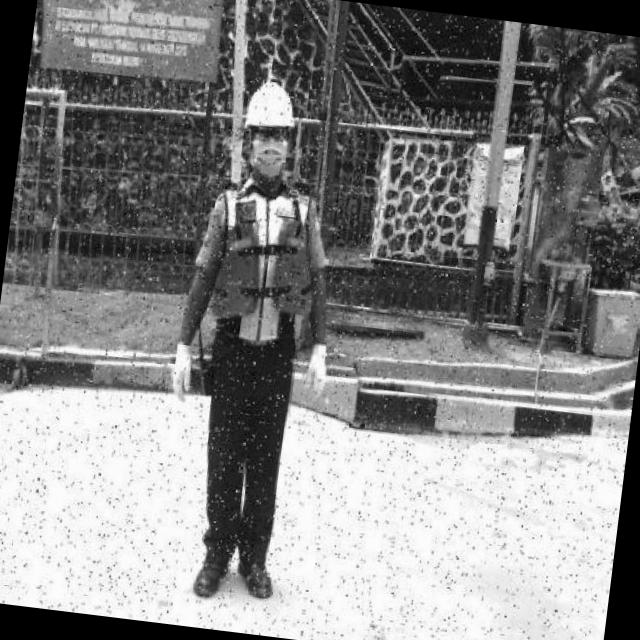boots: (230, 548, 278, 602), (190, 544, 232, 602)
gloves: (301, 340, 338, 398), (164, 341, 198, 398)
vest: (201, 176, 332, 356)
